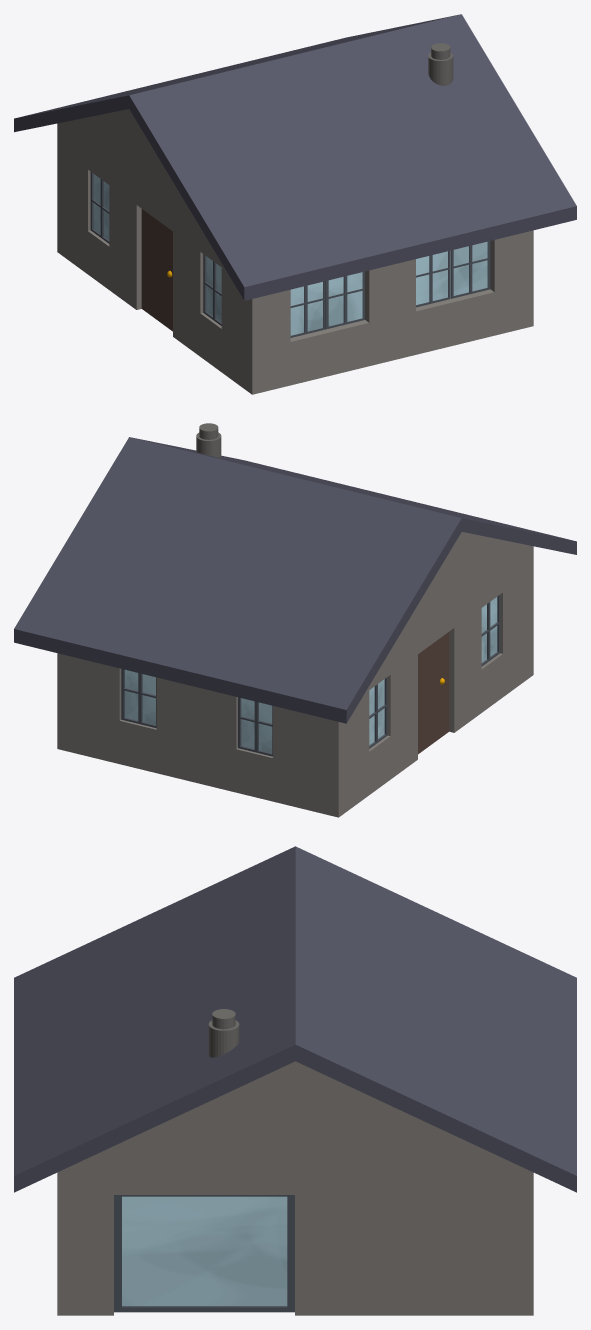
Rendered from TPCS_House_009_V1.fbx.
3 views of the same model, one above another, from view 1: azimuth 30°, elevation 25°; view 2: azimuth 150°, elevation 25°; view 3: azimuth 270°, elevation 25° (orthographic). The views are drawn at different scales.
Visible parts, largest first — view 1: 1.002; view 2: 1.002; view 3: 1.002.
Part boxes in pixels (x1,y1,x2,y2): 1.002: [14, 14, 576, 394]; 1.002: [14, 423, 576, 817]; 1.002: [14, 846, 576, 1315].
Size of the model in its own units: 591 by 399 by 709.
